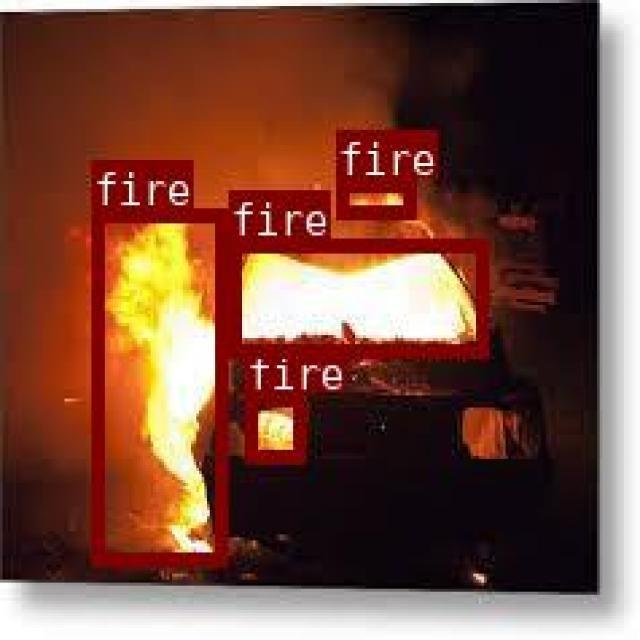fire: (90, 206, 223, 563), (229, 238, 485, 355), (242, 392, 303, 461), (334, 176, 413, 215)
